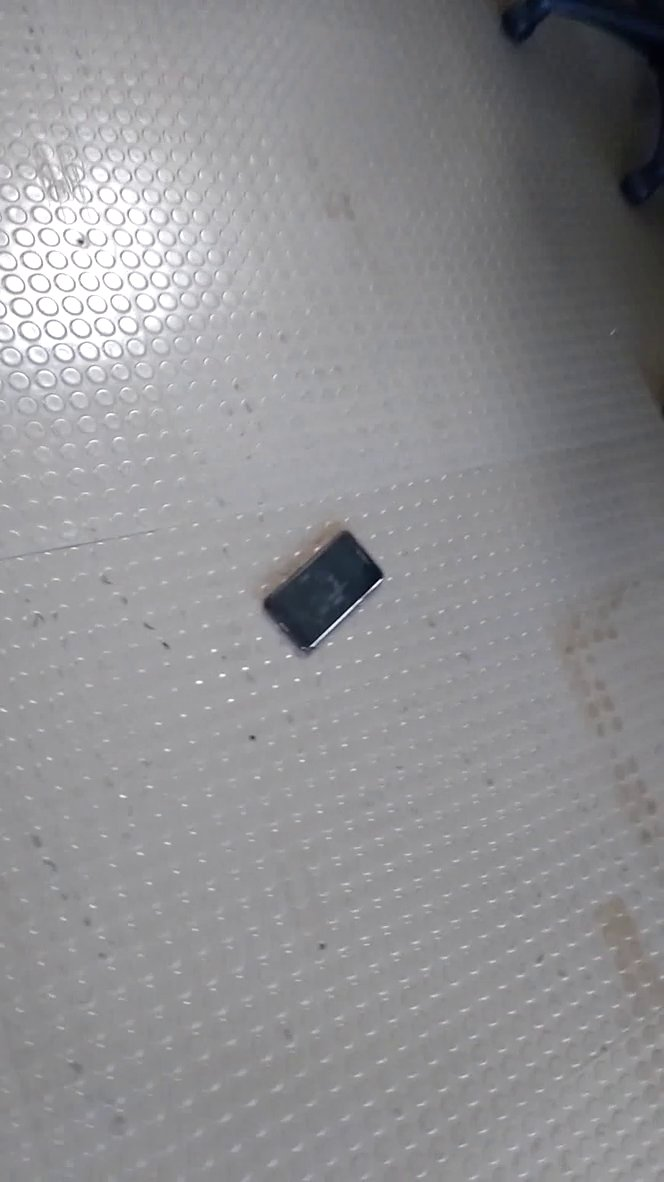phone: (253, 520, 403, 664)
